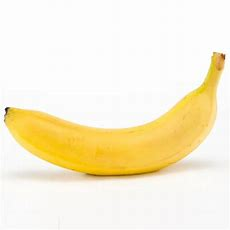fruit_banana: (3, 51, 226, 178)
